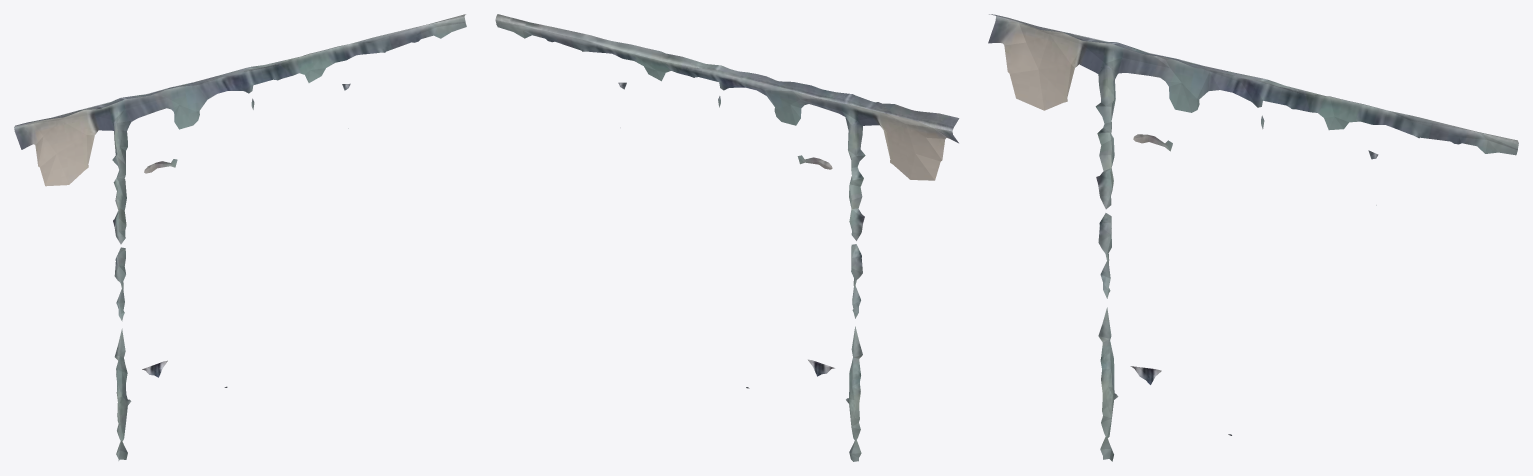
Rendered from Tile_+011_+009_L20_000001330.glb.
3 renders of one model, left to right at view 1: azimuth 30°, elevation 25°; view 2: azimuth 150°, elevation 25°; view 3: azimuth 330°, elevation 25°, orthographic. The views are drawn at different scales.
Visible parts, largest first — view 1: rtc; view 2: rtc; view 3: rtc.
Part boxes in pixels (x1,y1,x2,y2): rtc: (14,14,466,460); rtc: (495,14,959,461); rtc: (988,14,1518,461).
Bounding box in the file's own units: 31.49 × 24.15 × 0.995.
1 material, 1 textured.
